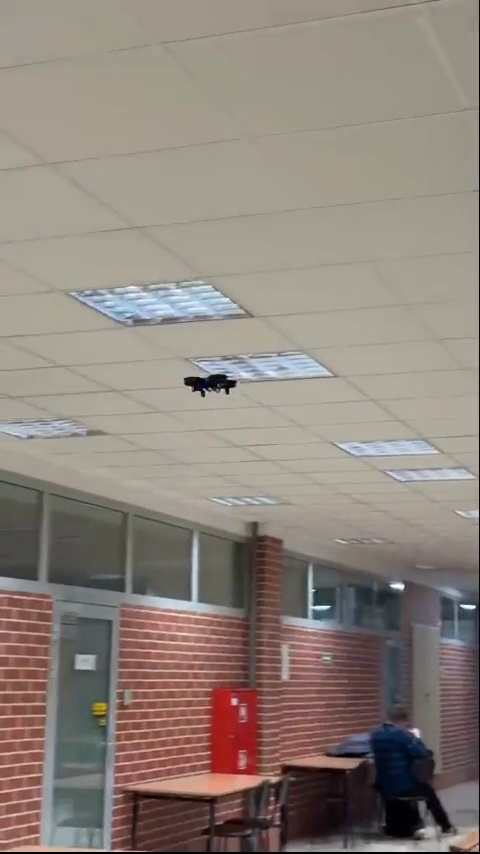drone: (185, 374, 235, 397)
no vest: (368, 695, 444, 808)
